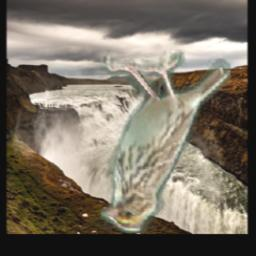Sparrow: (101, 50, 231, 233)
